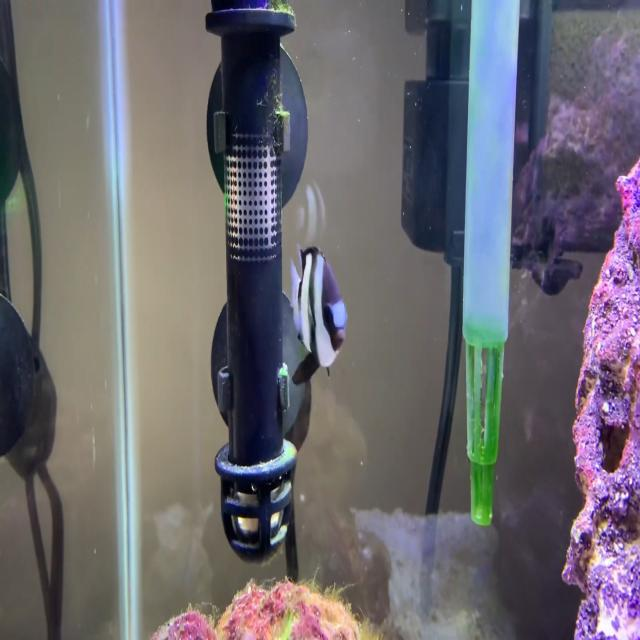ThreeStripedDamselfish: (290, 247, 348, 386)
